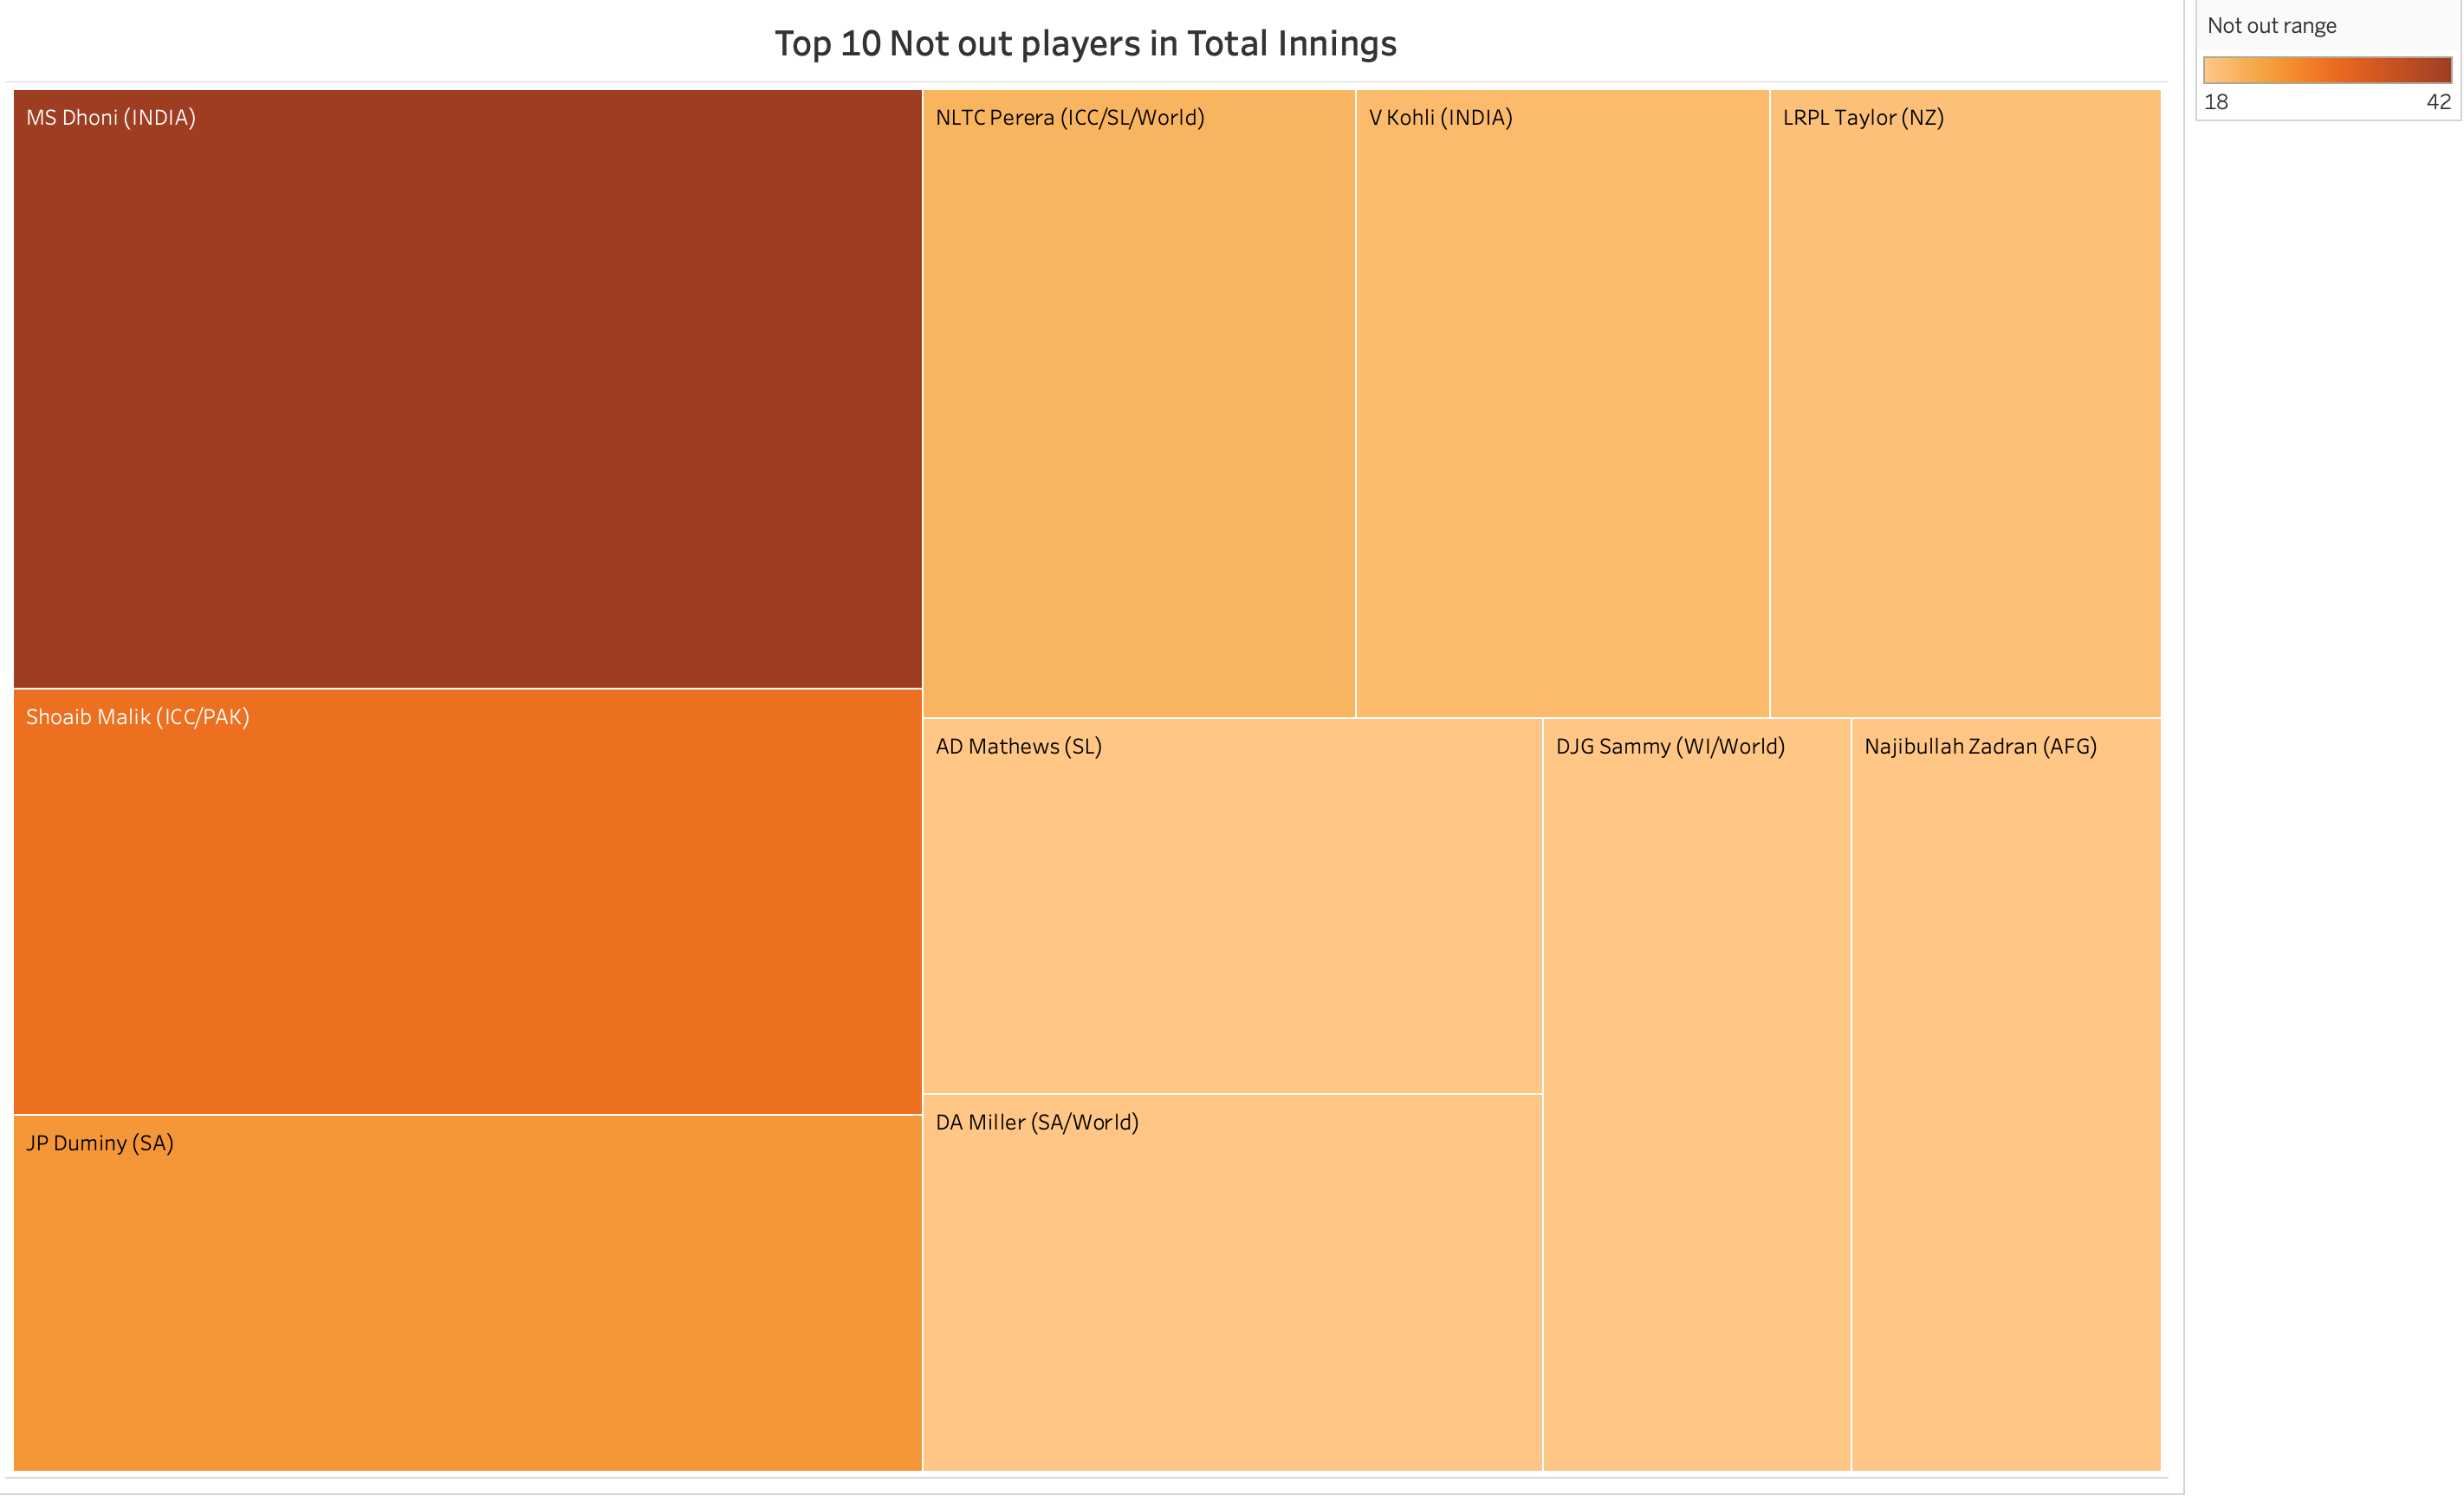

This screenshot's page, from the dashboard's own definition file:
{"tool":"tableau","page":{"name":"Insight 3","canvas":[1000,800],"ordinal":2},"visuals":[{"type":"worksheet","title":"Top 10 Not out players","mark":"Automatic","box":[8,8,755,784]},{"type":"legend","title":"Top 10 Not out players","param":"[federated.1d1vdhb0kooepm1acbi5z0xqp1hr].[max:NO:qk]","box":[763,8,229,65]},{"type":"text","box":[763,73,229,687]}]}

Visuals, with their boxes on the page's 1000x800 design canvas (x1, y1, x2, y2). These are canvas units, not pixel positions in the 2464x1502 screenshot, which may show the page scaled, cropped or inside an application window:
"Top 10 Not out players" worksheet: (left=8, top=8, right=763, bottom=792)
"Top 10 Not out players" legend: (left=763, top=8, right=992, bottom=73)
text: (left=763, top=73, right=992, bottom=760)
